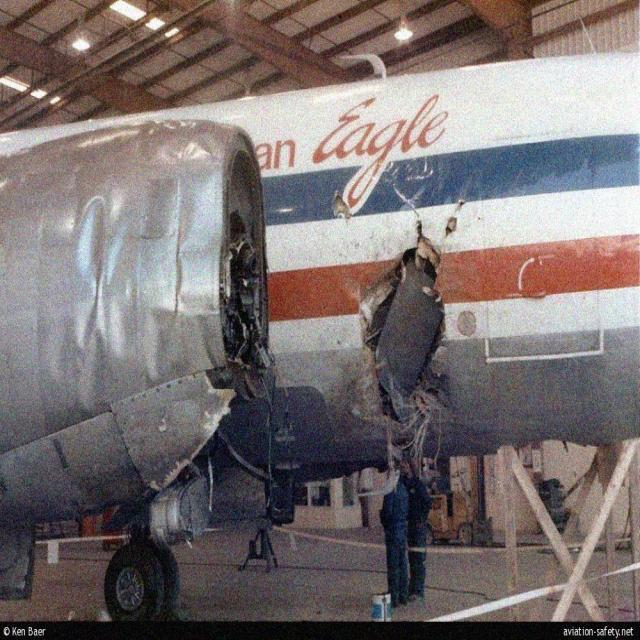dent: (46, 180, 193, 415)
